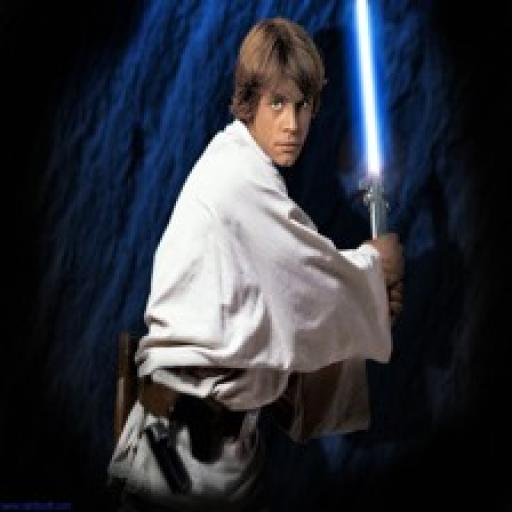human: (94, 16, 400, 512)
lightsaber: (342, 0, 408, 333)
